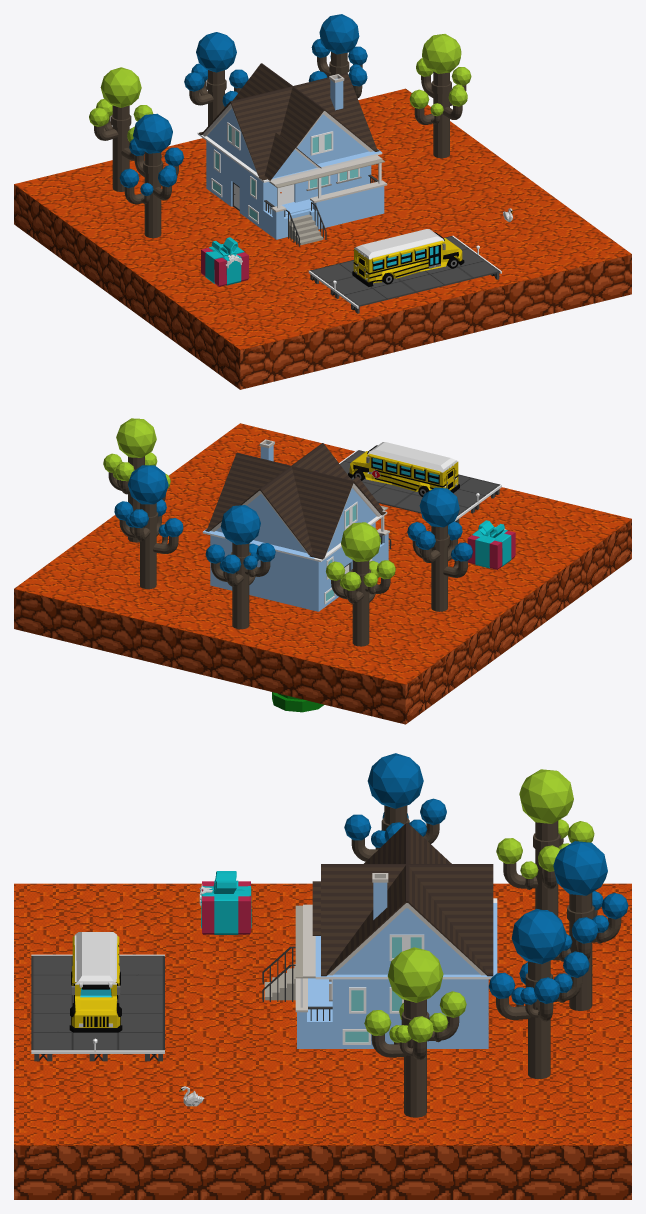
3 renders of one model, top to bottom at view 1: azimuth 30°, elevation 25°; view 2: azimuth 150°, elevation 25°; view 3: azimuth 270°, elevation 25°, orthographic. The views are drawn at different scales.
Parts seen in each view (by area): view 1: Cube.001, Cube.1594, VEHICLES_SCHOOL_BUS, OBJRANDOM_GIANT_PRESENT; view 2: Cube.001, Cube.1594, VEHICLES_SCHOOL_BUS, OBJRANDOM_GIANT_PRESENT, UNDERGROUND_PIPES; view 3: Cube.001, Cube.1594, VEHICLES_SCHOOL_BUS, OBJRANDOM_GIANT_PRESENT.
Boxes of the visible parts, x1,y1,x2,y2 form: Cube.001: (14,14,631,389); Cube.1594: (197,63,387,246); VEHICLES_SCHOOL_BUS: (352,229,464,286); OBJRANDOM_GIANT_PRESENT: (201,237,248,286); Cube.001: (14,418,631,724); Cube.1594: (202,439,391,611); VEHICLES_SCHOOL_BUS: (348,442,459,496); OBJRANDOM_GIANT_PRESENT: (467,520,515,569); UNDERGROUND_PIPES: (272,692,324,712); Cube.001: (14,753,631,1199); Cube.1594: (262,823,497,1048); VEHICLES_SCHOOL_BUS: (69,932,122,1032); OBJRANDOM_GIANT_PRESENT: (199,871,251,934).
Size of the model in its own units: 4000 by 2247 by 4000.
36 materials, 4 textured.
